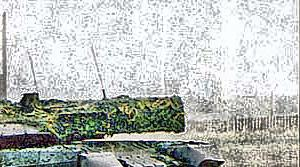tanks: (1, 95, 224, 167)
